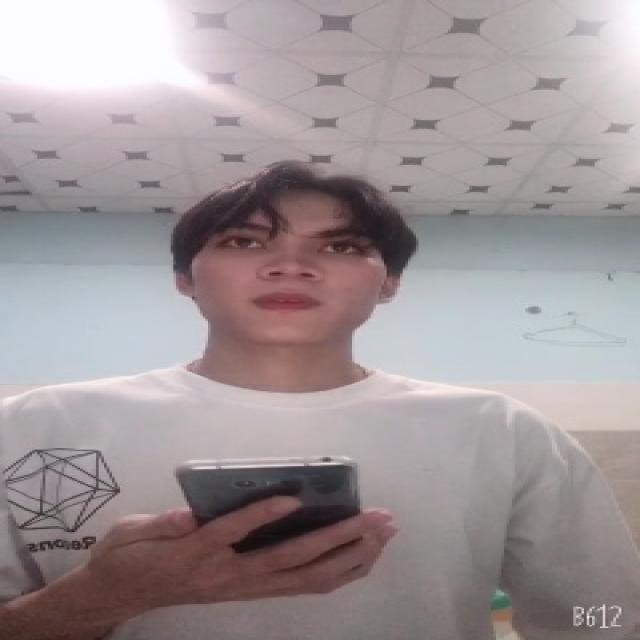Phone: (176, 453, 364, 546)
